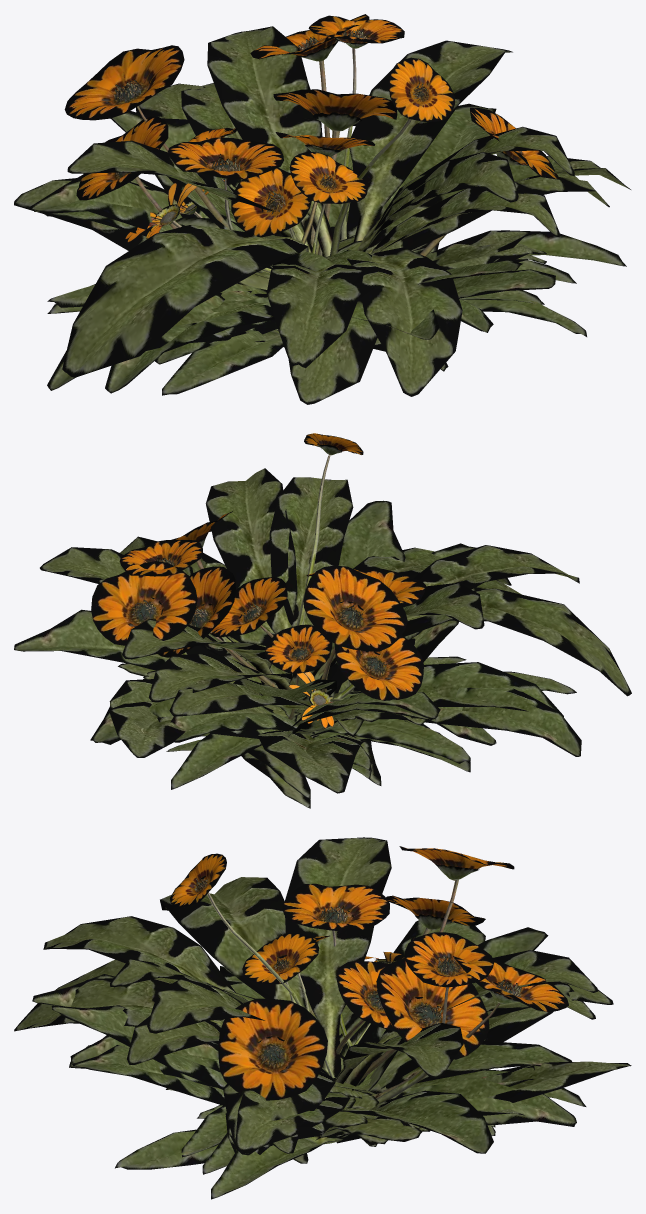
The model's file is flower_gazania.glb.
The picture shows the model from 3 angles, top to bottom: view 1: azimuth 30°, elevation 25°; view 2: azimuth 150°, elevation 25°; view 3: azimuth 270°, elevation 25°; orthographic projection. The views are drawn at different scales.
Visible parts, largest first — view 1: flower_gazania_h_LOD0, flower_gazania_f_LOD0, flower_gazania_g_LOD0, flower_gazania_e_LOD0, flower_gazania_d_LOD0, flower_gazania_b_LOD0, flower_gazania_c_LOD0; view 2: flower_gazania_h_LOD0, flower_gazania_f_LOD0, flower_gazania_g_LOD0, flower_gazania_e_LOD0, flower_gazania_d_LOD0, flower_gazania_c_LOD0, flower_gazania_b_LOD0; view 3: flower_gazania_h_LOD0, flower_gazania_f_LOD0, flower_gazania_g_LOD0, flower_gazania_d_LOD0, flower_gazania_e_LOD0, flower_gazania_b_LOD0, flower_gazania_c_LOD0.
Boxes of the visible parts, x1,y1,x2,y2 form: flower_gazania_h_LOD0: (62,15,630,396); flower_gazania_f_LOD0: (14,83,609,390); flower_gazania_g_LOD0: (105,14,576,404); flower_gazania_e_LOD0: (29,127,546,307); flower_gazania_d_LOD0: (162,132,529,395); flower_gazania_b_LOD0: (211,150,586,371); flower_gazania_c_LOD0: (34,210,546,313); flower_gazania_h_LOD0: (14,433,631,789); flower_gazania_f_LOD0: (157,543,581,793); flower_gazania_g_LOD0: (91,511,563,728); flower_gazania_e_LOD0: (143,569,470,798); flower_gazania_d_LOD0: (170,577,576,785); flower_gazania_c_LOD0: (143,645,470,808); flower_gazania_b_LOD0: (90,638,496,745); flower_gazania_h_LOD0: (14,837,631,1199); flower_gazania_f_LOD0: (32,895,613,1157); flower_gazania_g_LOD0: (55,935,595,1174); flower_gazania_d_LOD0: (70,961,571,1153); flower_gazania_e_LOD0: (213,883,498,1154); flower_gazania_b_LOD0: (69,1005,576,1169); flower_gazania_c_LOD0: (207,1042,495,1155).
Bounding box in the file's own units: 0.3376 × 0.1655 × 0.3262.
1 material, 1 textured.
